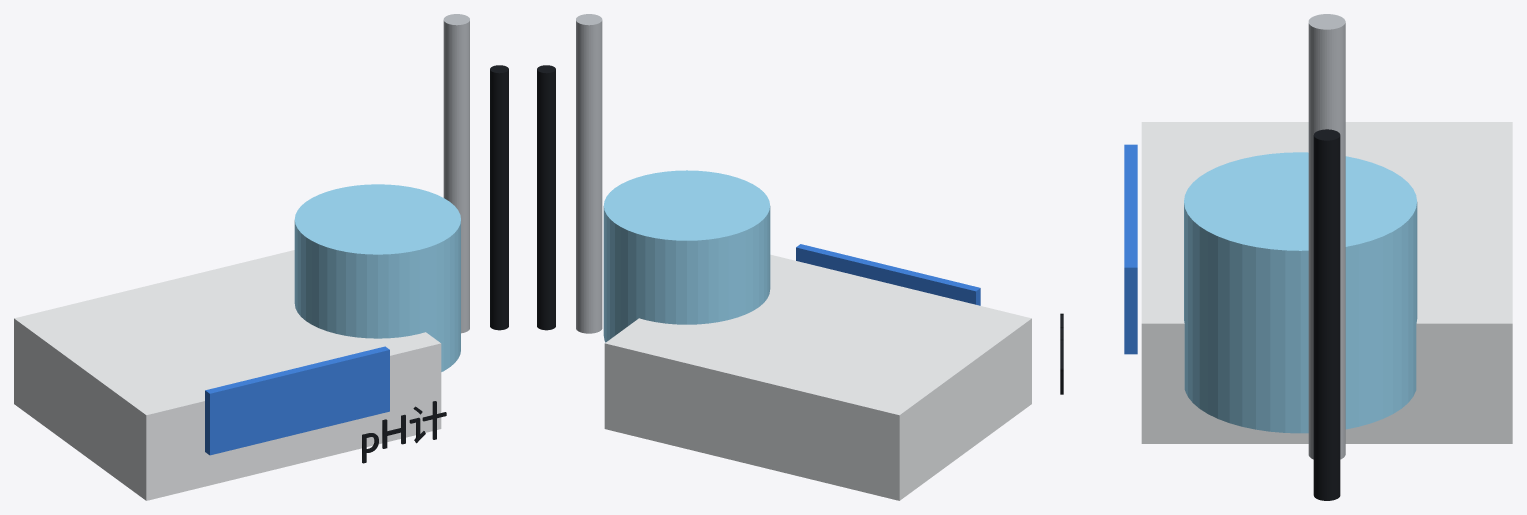
Rendered from asset_ph_meter.glb.
The picture shows the model from 3 angles, left to right: view 1: azimuth 30°, elevation 25°; view 2: azimuth 150°, elevation 25°; view 3: azimuth 270°, elevation 25°; orthographic projection. The views are drawn at different scales.
Parts seen in each view (by area): view 1: meter_body, beaker, display, probe_stand, probe, asset_label; view 2: meter_body, beaker, probe_stand, probe, display; view 3: meter_body, beaker, probe, probe_stand, display.
Part boxes in pixels (<box>): meter_body: <box>14,250,441,500</box>; beaker: <box>294,184,460,371</box>; display: <box>205,346,389,455</box>; probe_stand: <box>443,14,469,333</box>; probe: <box>490,65,508,330</box>; asset_label: <box>362,401,446,463</box>; meter_body: <box>604,254,1031,500</box>; beaker: <box>603,170,770,342</box>; probe_stand: <box>576,14,602,333</box>; probe: <box>537,65,555,330</box>; display: <box>796,244,980,305</box>; meter_body: <box>1141,122,1512,443</box>; beaker: <box>1184,152,1417,433</box>; probe: <box>1313,129,1340,500</box>; probe_stand: <box>1308,14,1345,459</box>; display: <box>1124,144,1137,354</box>.
Bounding box in the file's own units: 1.3 × 0.995 × 0.853.
